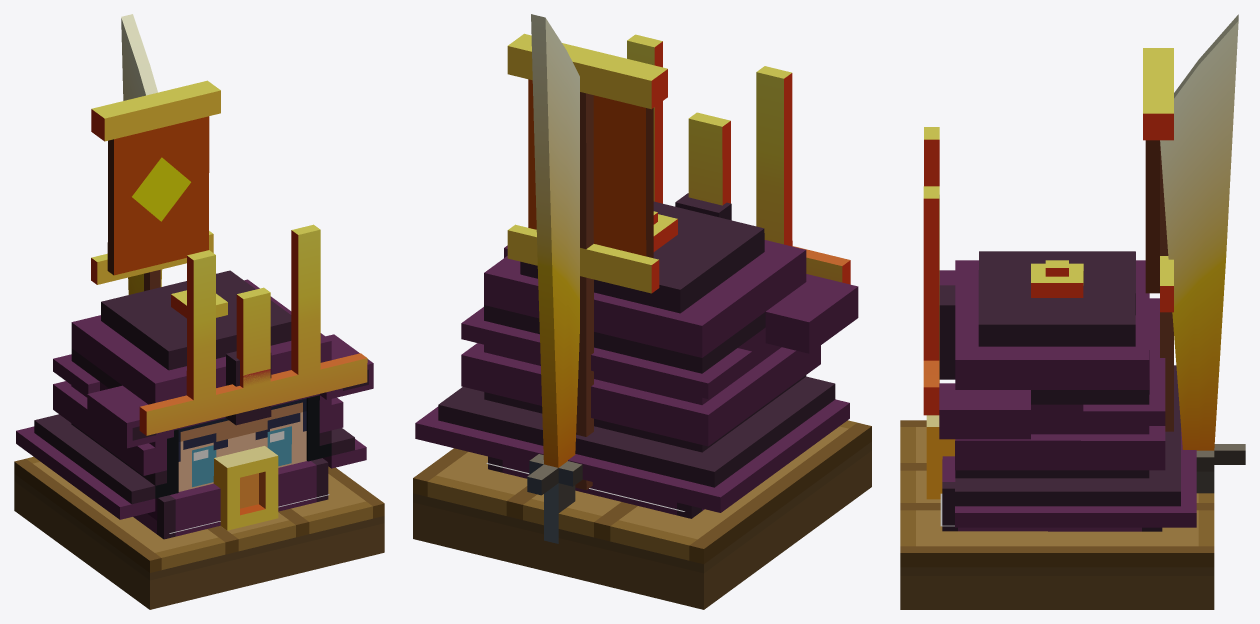
Rendered from Tower_Samurai_LVL7.fbx.
The picture shows the model from 3 angles, left to right: view 1: azimuth 30°, elevation 25°; view 2: azimuth 150°, elevation 25°; view 3: azimuth 270°, elevation 25°; orthographic projection. The views are drawn at different scales.
Visible parts, largest first — view 1: hat, Base, Banner, U, Mask, Body, Weapon; view 2: hat, Base, Banner, Weapon, U, Mask; view 3: hat, Base, Weapon, Banner, U, Mask.
Boxes of the visible parts, x1,y1,x2,y2 form: hat: [16, 270, 373, 519]; Base: [14, 456, 384, 609]; Banner: [91, 80, 220, 291]; U: [139, 224, 367, 435]; Mask: [133, 446, 328, 539]; Body: [178, 398, 306, 491]; Weapon: [121, 14, 162, 294]; hat: [415, 193, 858, 512]; Base: [413, 420, 871, 609]; Banner: [507, 33, 667, 490]; Weapon: [527, 14, 582, 543]; U: [627, 34, 850, 284]; Mask: [488, 456, 704, 518]; hat: [939, 251, 1196, 527]; Base: [900, 420, 1214, 609]; Weapon: [1160, 14, 1245, 493]; Banner: [1143, 48, 1173, 431]; U: [923, 127, 939, 415]; Mask: [926, 415, 1162, 531].
Size of the model in its own units: 105 by 186 by 110.
